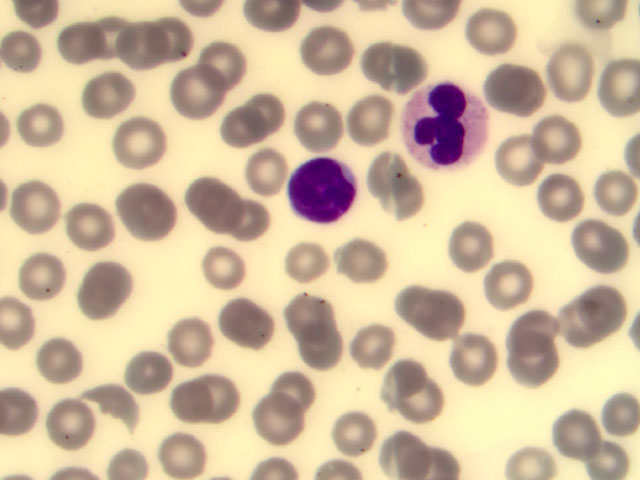RBC: (57, 19, 107, 70), (88, 12, 138, 63), (108, 15, 158, 66), (138, 8, 188, 59), (82, 70, 132, 121), (21, 101, 71, 152), (13, 176, 63, 227), (67, 198, 117, 249), (114, 177, 164, 228), (130, 194, 180, 245), (117, 117, 167, 168), (169, 66, 219, 117), (200, 38, 250, 89), (212, 107, 262, 158), (245, 82, 295, 133), (292, 103, 342, 154), (346, 92, 396, 143), (349, 31, 399, 82), (381, 42, 431, 93), (309, 26, 359, 77), (470, 8, 520, 59), (486, 63, 536, 114), (553, 47, 603, 98), (533, 109, 583, 160), (494, 131, 544, 182), (534, 174, 584, 225), (590, 162, 640, 213), (576, 220, 626, 271), (482, 258, 532, 309), (444, 219, 494, 270), (379, 182, 429, 233), (370, 148, 420, 199), (288, 235, 338, 286), (340, 233, 390, 284), (228, 195, 278, 246), (240, 150, 290, 201), (188, 175, 238, 226), (194, 244, 244, 295), (222, 291, 272, 342), (162, 314, 212, 365), (126, 346, 176, 397), (93, 380, 143, 431), (44, 400, 94, 451), (38, 337, 88, 388), (19, 254, 69, 305), (71, 275, 121, 326), (84, 253, 134, 304), (252, 396, 302, 447), (264, 363, 314, 414), (195, 371, 245, 422), (165, 369, 215, 420), (159, 429, 209, 480), (330, 412, 380, 463), (345, 325, 395, 376), (293, 322, 343, 373), (289, 293, 339, 344), (385, 278, 435, 329), (415, 289, 465, 340), (447, 335, 497, 386), (399, 377, 449, 428), (382, 357, 432, 408), (504, 335, 554, 386), (515, 307, 565, 358), (554, 305, 604, 356), (574, 281, 624, 332), (590, 390, 640, 441), (555, 405, 605, 456), (586, 429, 636, 480), (386, 429, 436, 480), (1, 32, 50, 83)
WBC: (403, 85, 492, 173), (289, 157, 360, 223)
